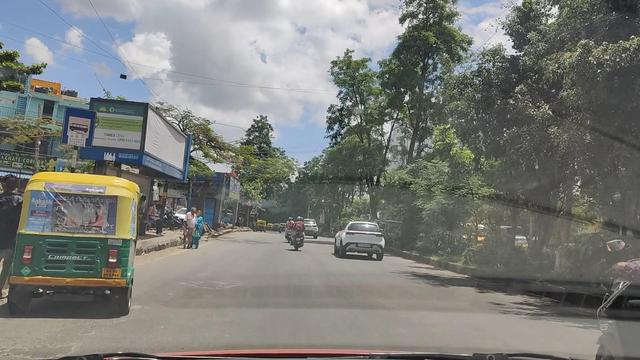LMV: (22, 167, 142, 318), (334, 219, 385, 263), (291, 213, 309, 251)
